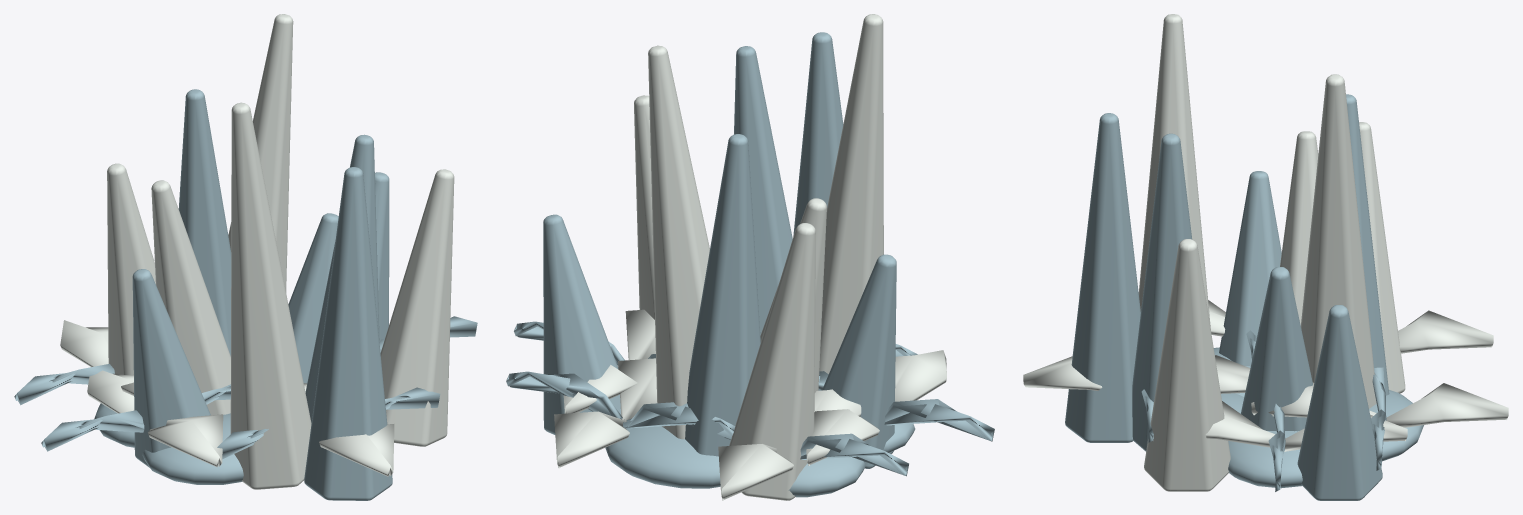
Rendered from bio_crystal_fan_15_near.glb.
3 views of the same model, side by side, from view 1: azimuth 30°, elevation 25°; view 2: azimuth 150°, elevation 25°; view 3: azimuth 270°, elevation 25° (orthographic). The views are drawn at different scales.
Parts seen in each view (by area): view 1: Reflecting mineral prism.007, Reflecting mineral prism.002, Reflecting mineral prism.005, Reflecting mineral prism.009, Reflecting mineral prism.004, Reflecting mineral prism.006, Reflecting mineral prism.003, Reflecting mineral prism.001, Low buttress leaf.017, Reflecting mineral prism, Mineral substrate, Reflecting mineral prism.010 (+7 smaller); view 2: Reflecting mineral prism.006, Reflecting mineral prism.003, Reflecting mineral prism.007, Reflecting mineral prism.001, Reflecting mineral prism.008, Reflecting mineral prism.004, Reflecting mineral prism.010, Mineral substrate, Reflecting mineral prism.002, Low buttress leaf.013, Low buttress leaf.017, Low buttress leaf.012 (+7 smaller); view 3: Reflecting mineral prism.002, Reflecting mineral prism.005, Reflecting mineral prism.003, Reflecting mineral prism.008, Reflecting mineral prism.010, Reflecting mineral prism, Reflecting mineral prism.004, Reflecting mineral prism.007, Mineral substrate, Reflecting mineral prism.009, Reflecting mineral prism.001, Low buttress leaf.013 (+6 smaller).
Part boxes in pixels (x1,y1,x2,y2): Reflecting mineral prism.007: (230, 102, 311, 489); Reflecting mineral prism.002: (304, 167, 392, 500); Reflecting mineral prism.005: (380, 169, 454, 446); Reflecting mineral prism.009: (151, 180, 230, 415); Reflecting mineral prism.004: (132, 269, 210, 467); Reflecting mineral prism.006: (178, 89, 231, 356); Reflecting mineral prism.003: (228, 14, 293, 292); Reflecting mineral prism.001: (107, 163, 155, 374); Low buttress leaf.017: (87, 366, 223, 467); Reflecting mineral prism: (288, 213, 338, 383); Mineral substrate: (94, 403, 243, 484); Reflecting mineral prism.010: (305, 134, 379, 422); Reflecting mineral prism.006: (685, 134, 760, 456); Reflecting mineral prism.003: (648, 45, 709, 439); Reflecting mineral prism.007: (819, 14, 883, 373); Reflecting mineral prism.001: (729, 223, 815, 500); Reflecting mineral prism.008: (543, 214, 620, 434); Reflecting mineral prism.004: (822, 254, 896, 468); Reflecting mineral prism.010: (734, 46, 792, 335); Mineral substrate: (605, 424, 915, 497); Reflecting mineral prism.002: (793, 32, 843, 236); Low buttress leaf.013: (554, 358, 657, 468); Low buttress leaf.017: (806, 350, 946, 465); Low buttress leaf.012: (506, 371, 735, 439); Reflecting mineral prism.002: (1065, 113, 1140, 442); Reflecting mineral prism.005: (1144, 239, 1230, 491); Reflecting mineral prism.003: (1301, 74, 1376, 408); Reflecting mineral prism.008: (1297, 305, 1382, 500); Reflecting mineral prism.010: (1132, 133, 1192, 451); Reflecting mineral prism: (1240, 267, 1312, 431); Reflecting mineral prism.004: (1219, 171, 1281, 366); Reflecting mineral prism.007: (1138, 14, 1210, 329); Mineral substrate: (1213, 347, 1423, 488); Reflecting mineral prism.009: (1280, 131, 1318, 325); Reflecting mineral prism.001: (1359, 122, 1405, 393); Low buttress leaf.013: (1251, 382, 1508, 427).
Size of the model in its own units: 2.22 by 1.85 by 2.09.
